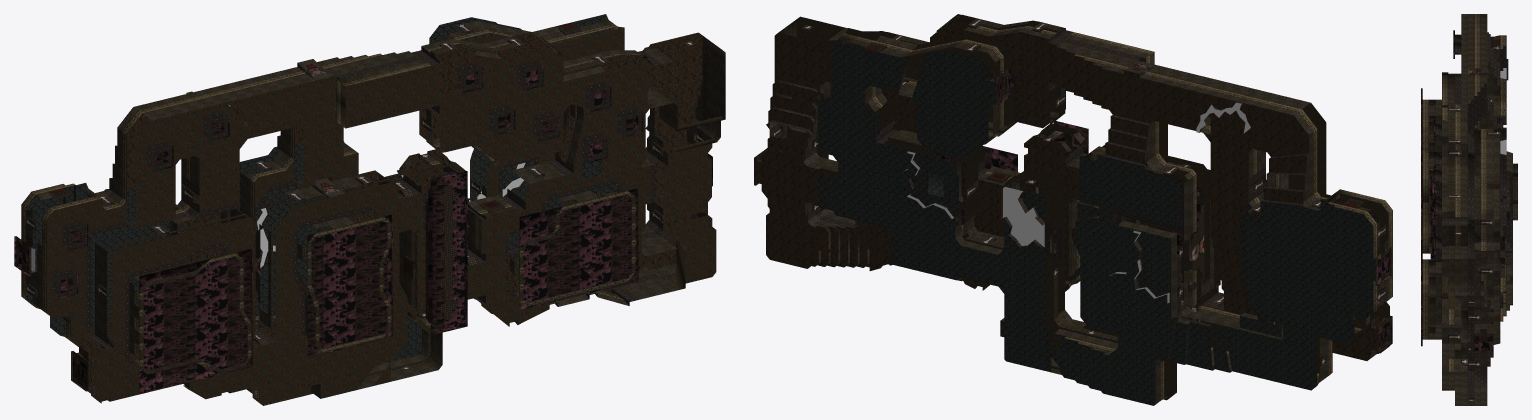
The model's file is gomdm6.fbx.
3 renders of one model, left to right at view 1: azimuth 30°, elevation 25°; view 2: azimuth 150°, elevation 25°; view 3: azimuth 270°, elevation 25°, orthographic. The views are drawn at different scales.
Parts seen in each view (by area): view 1: mesh235, mesh62, mesh181, mesh1359, mesh372, mesh1295, mesh66, mesh397, mesh1125, mesh102, mesh454, mesh1100 (+56 smaller); view 2: mesh743, mesh934, mesh1564, mesh738, mesh1714, mesh1187, mesh1567, mesh1726, mesh1101, mesh1358, mesh1592, mesh1651 (+43 smaller); view 3: mesh457, mesh1092, mesh64, mesh601, mesh793, mesh183, mesh933, mesh504, mesh688, mesh298, mesh777, mesh728 (+70 smaller).
Part boxes in pixels (x1,y1,x2,y2): mesh235: [139, 249, 252, 393]; mesh62: [519, 188, 638, 309]; mesh181: [307, 214, 392, 357]; mesh1359: [135, 102, 239, 228]; mesh372: [477, 47, 563, 165]; mesh1295: [111, 217, 255, 340]; mesh66: [523, 195, 631, 302]; mesh397: [565, 65, 653, 183]; mesh1125: [275, 187, 369, 337]; mesh102: [430, 171, 467, 334]; mesh454: [345, 64, 437, 128]; mesh1100: [259, 75, 335, 135]; mesh743: [832, 141, 998, 286]; mesh934: [911, 50, 988, 159]; mesh1564: [1250, 199, 1354, 343]; mesh738: [817, 40, 906, 162]; mesh1714: [1079, 224, 1170, 333]; mesh1187: [1079, 156, 1181, 226]; mesh1567: [1241, 212, 1307, 313]; mesh1726: [1118, 249, 1173, 386]; mesh1101: [1101, 68, 1191, 129]; mesh1358: [1210, 98, 1270, 202]; mesh1592: [1224, 326, 1307, 389]; mesh1651: [1326, 209, 1365, 316]; mesh457: [1442, 33, 1487, 121]; mesh1092: [1461, 33, 1474, 93]; mesh64: [1422, 259, 1428, 338]; mesh601: [1442, 347, 1467, 387]; mesh793: [1480, 140, 1493, 176]; mesh183: [1422, 151, 1428, 253]; mesh933: [1500, 127, 1506, 212]; mesh504: [1455, 144, 1467, 182]; mesh688: [1468, 153, 1474, 220]; mesh298: [1442, 259, 1467, 276]; mesh777: [1474, 127, 1480, 219]; mesh728: [1480, 190, 1493, 218].
Size of the model in its own units: 2688 by 1288 by 480.
